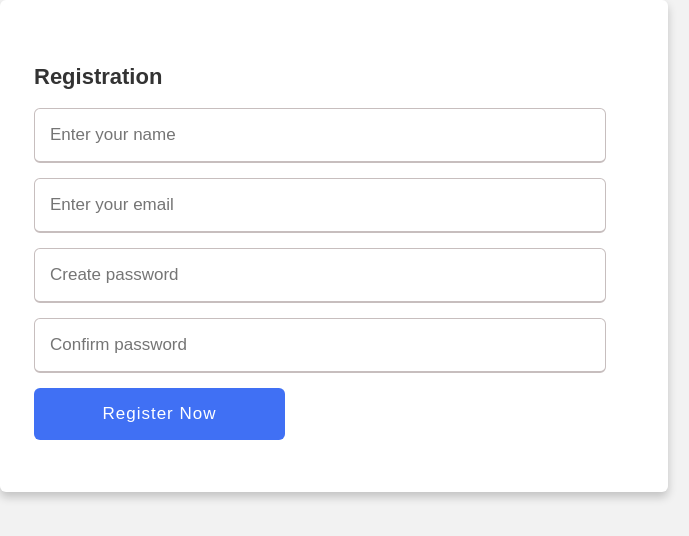
Test: SignUp Component › Submitting signup form with mismatched passwords
Note: Simulate entering form data
Type "abc" into the field with placeholder "Enter your name". click: point(320, 136)
box: 34,108 -> 606,163
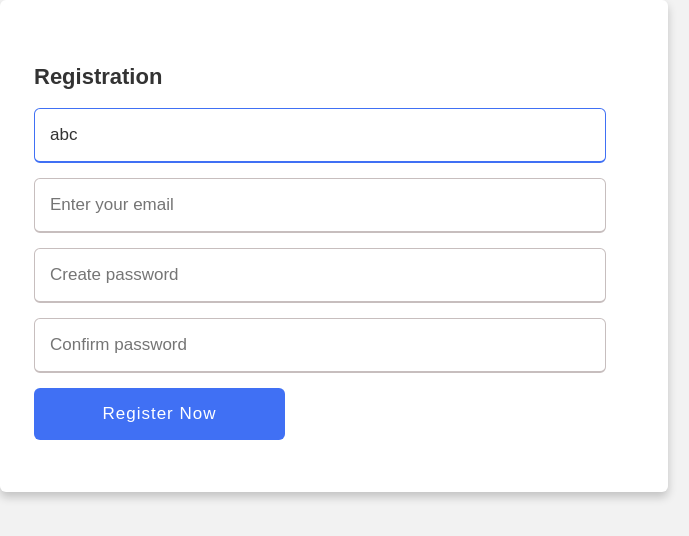
Type "test@example.com" into the field with placeholder "Enter your email". click: point(320, 206)
box: 34,178 -> 606,233
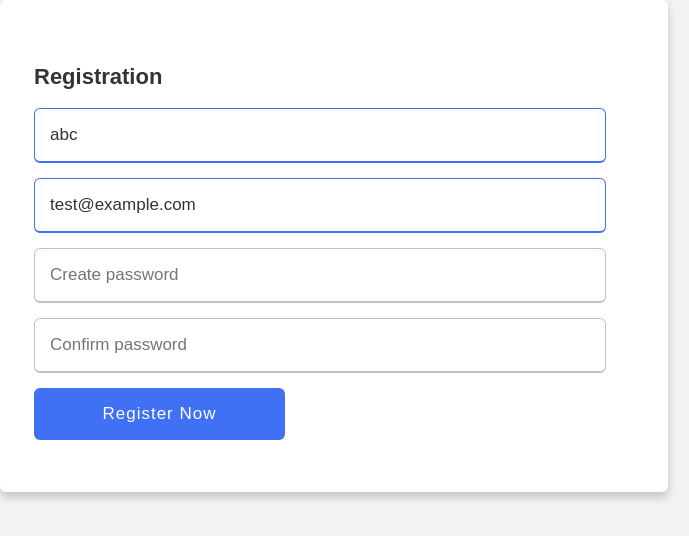
Type "password123" into the password field with placeholder "Create password". click: point(320, 276)
box: 34,248 -> 606,303
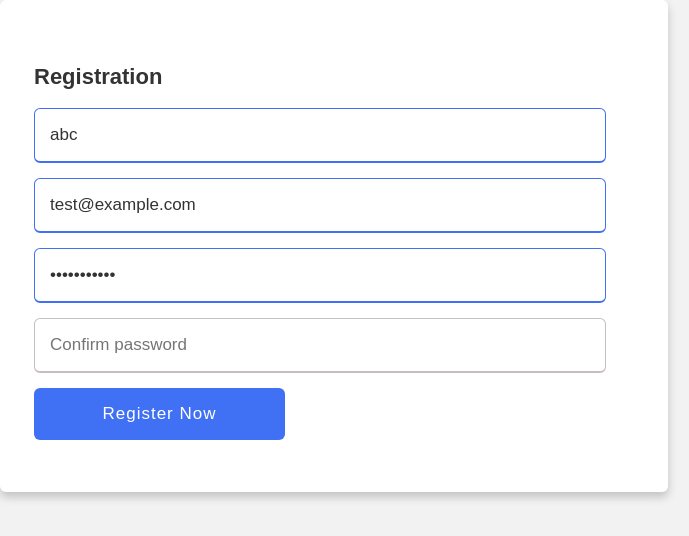
Type "password456" into the password field with placeholder "Confirm password". click: point(320, 346)
box: 34,318 -> 606,373
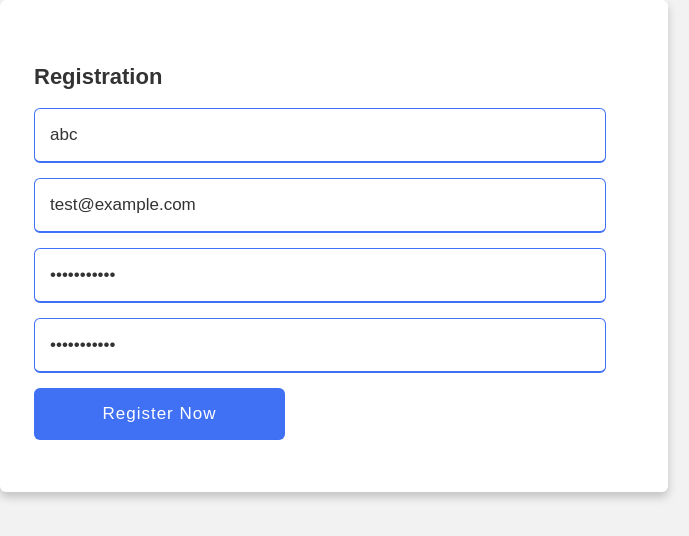
Note: Simulate clicking the "Register Now" button
Click the 3rd field. click: point(160, 414)
box: 34,388 -> 285,440
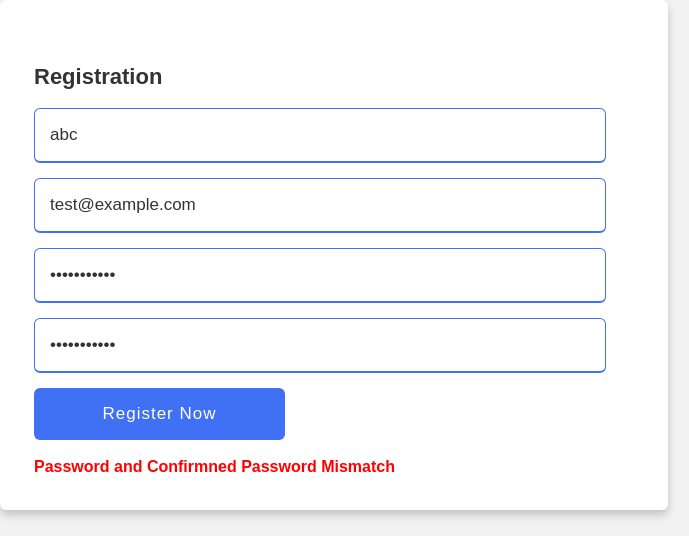
Check: the text "Password and Confirmned Password Mismatch" is shown, box 34,458 -> 395,475
